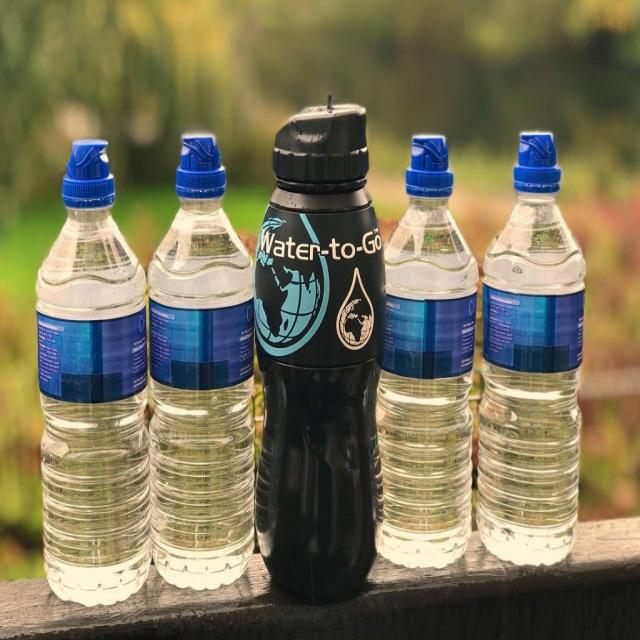plastic_bottle: (35, 138, 151, 606)
